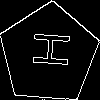H: (24, 29, 70, 69)
